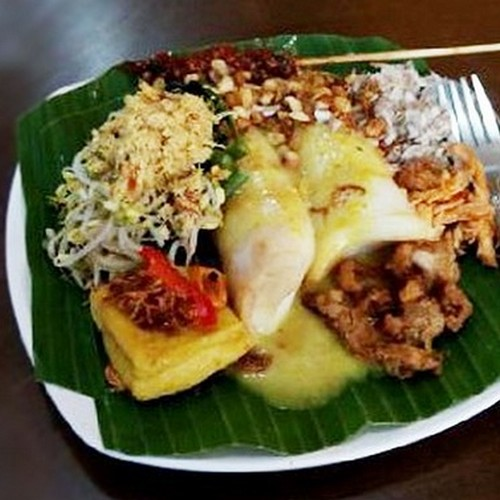tipat blayag: (71, 40, 476, 400)
